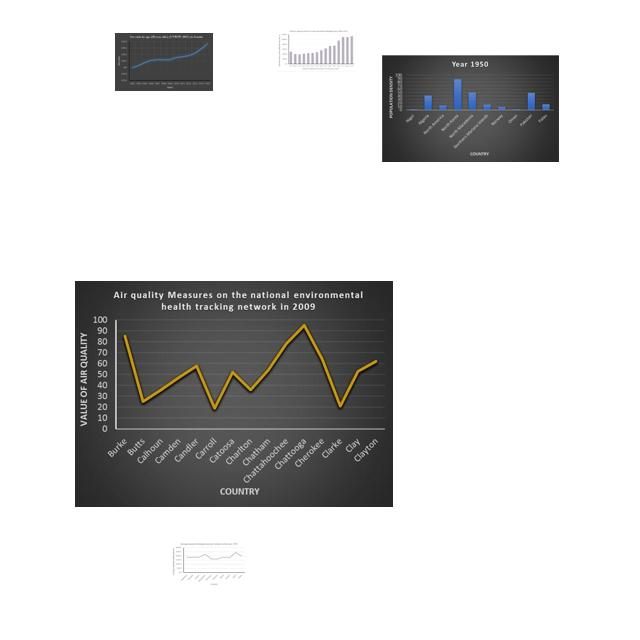Graph: (75, 281, 393, 507), (382, 55, 559, 162), (115, 33, 213, 91), (277, 29, 356, 72), (172, 542, 246, 586)
